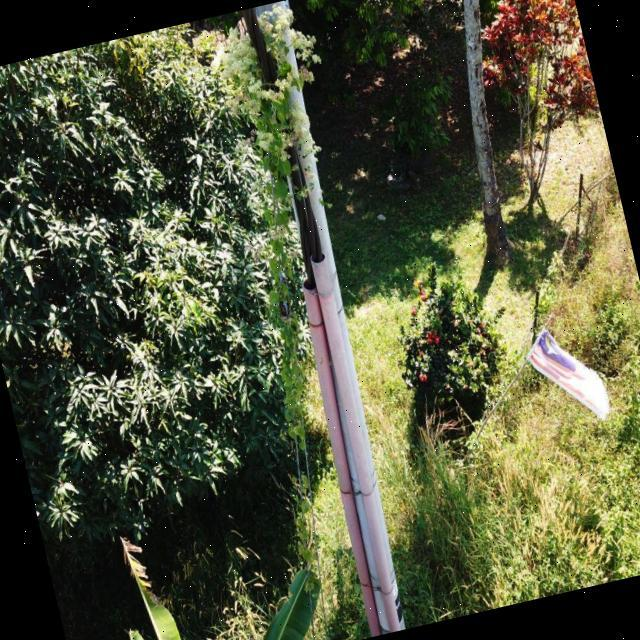critical vegetation: (173, 16, 446, 610)
